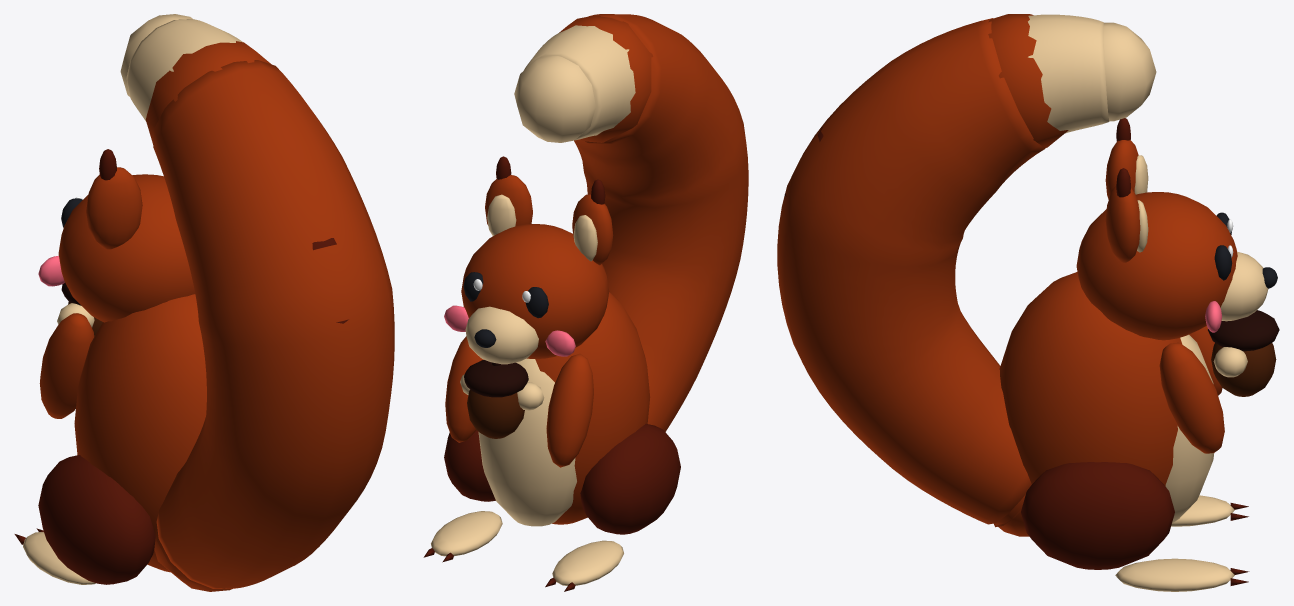
Rendered from Squirrel.fbx.
The picture shows the model from 3 angles, left to right: view 1: azimuth 30°, elevation 25°; view 2: azimuth 150°, elevation 25°; view 3: azimuth 270°, elevation 25°; orthographic projection. The views are drawn at different scales.
Parts seen in each view (by area): view 1: Squirrel; view 2: Squirrel; view 3: Squirrel.
Part boxes in pixels (bbox=[...]): Squirrel: bbox=[14, 14, 394, 591]; Squirrel: bbox=[423, 14, 748, 591]; Squirrel: bbox=[777, 14, 1279, 591].
Bounding box in the file's own units: 310 × 687 × 586.
